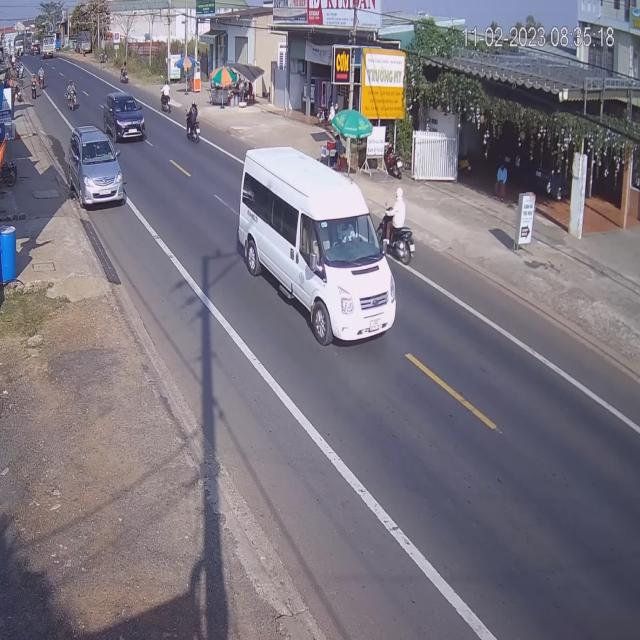bus: (235, 145, 394, 349)
car: (69, 126, 124, 208), (104, 91, 144, 142)
motorbike: (383, 195, 414, 264), (183, 101, 202, 145), (161, 84, 173, 115), (68, 81, 78, 112)
